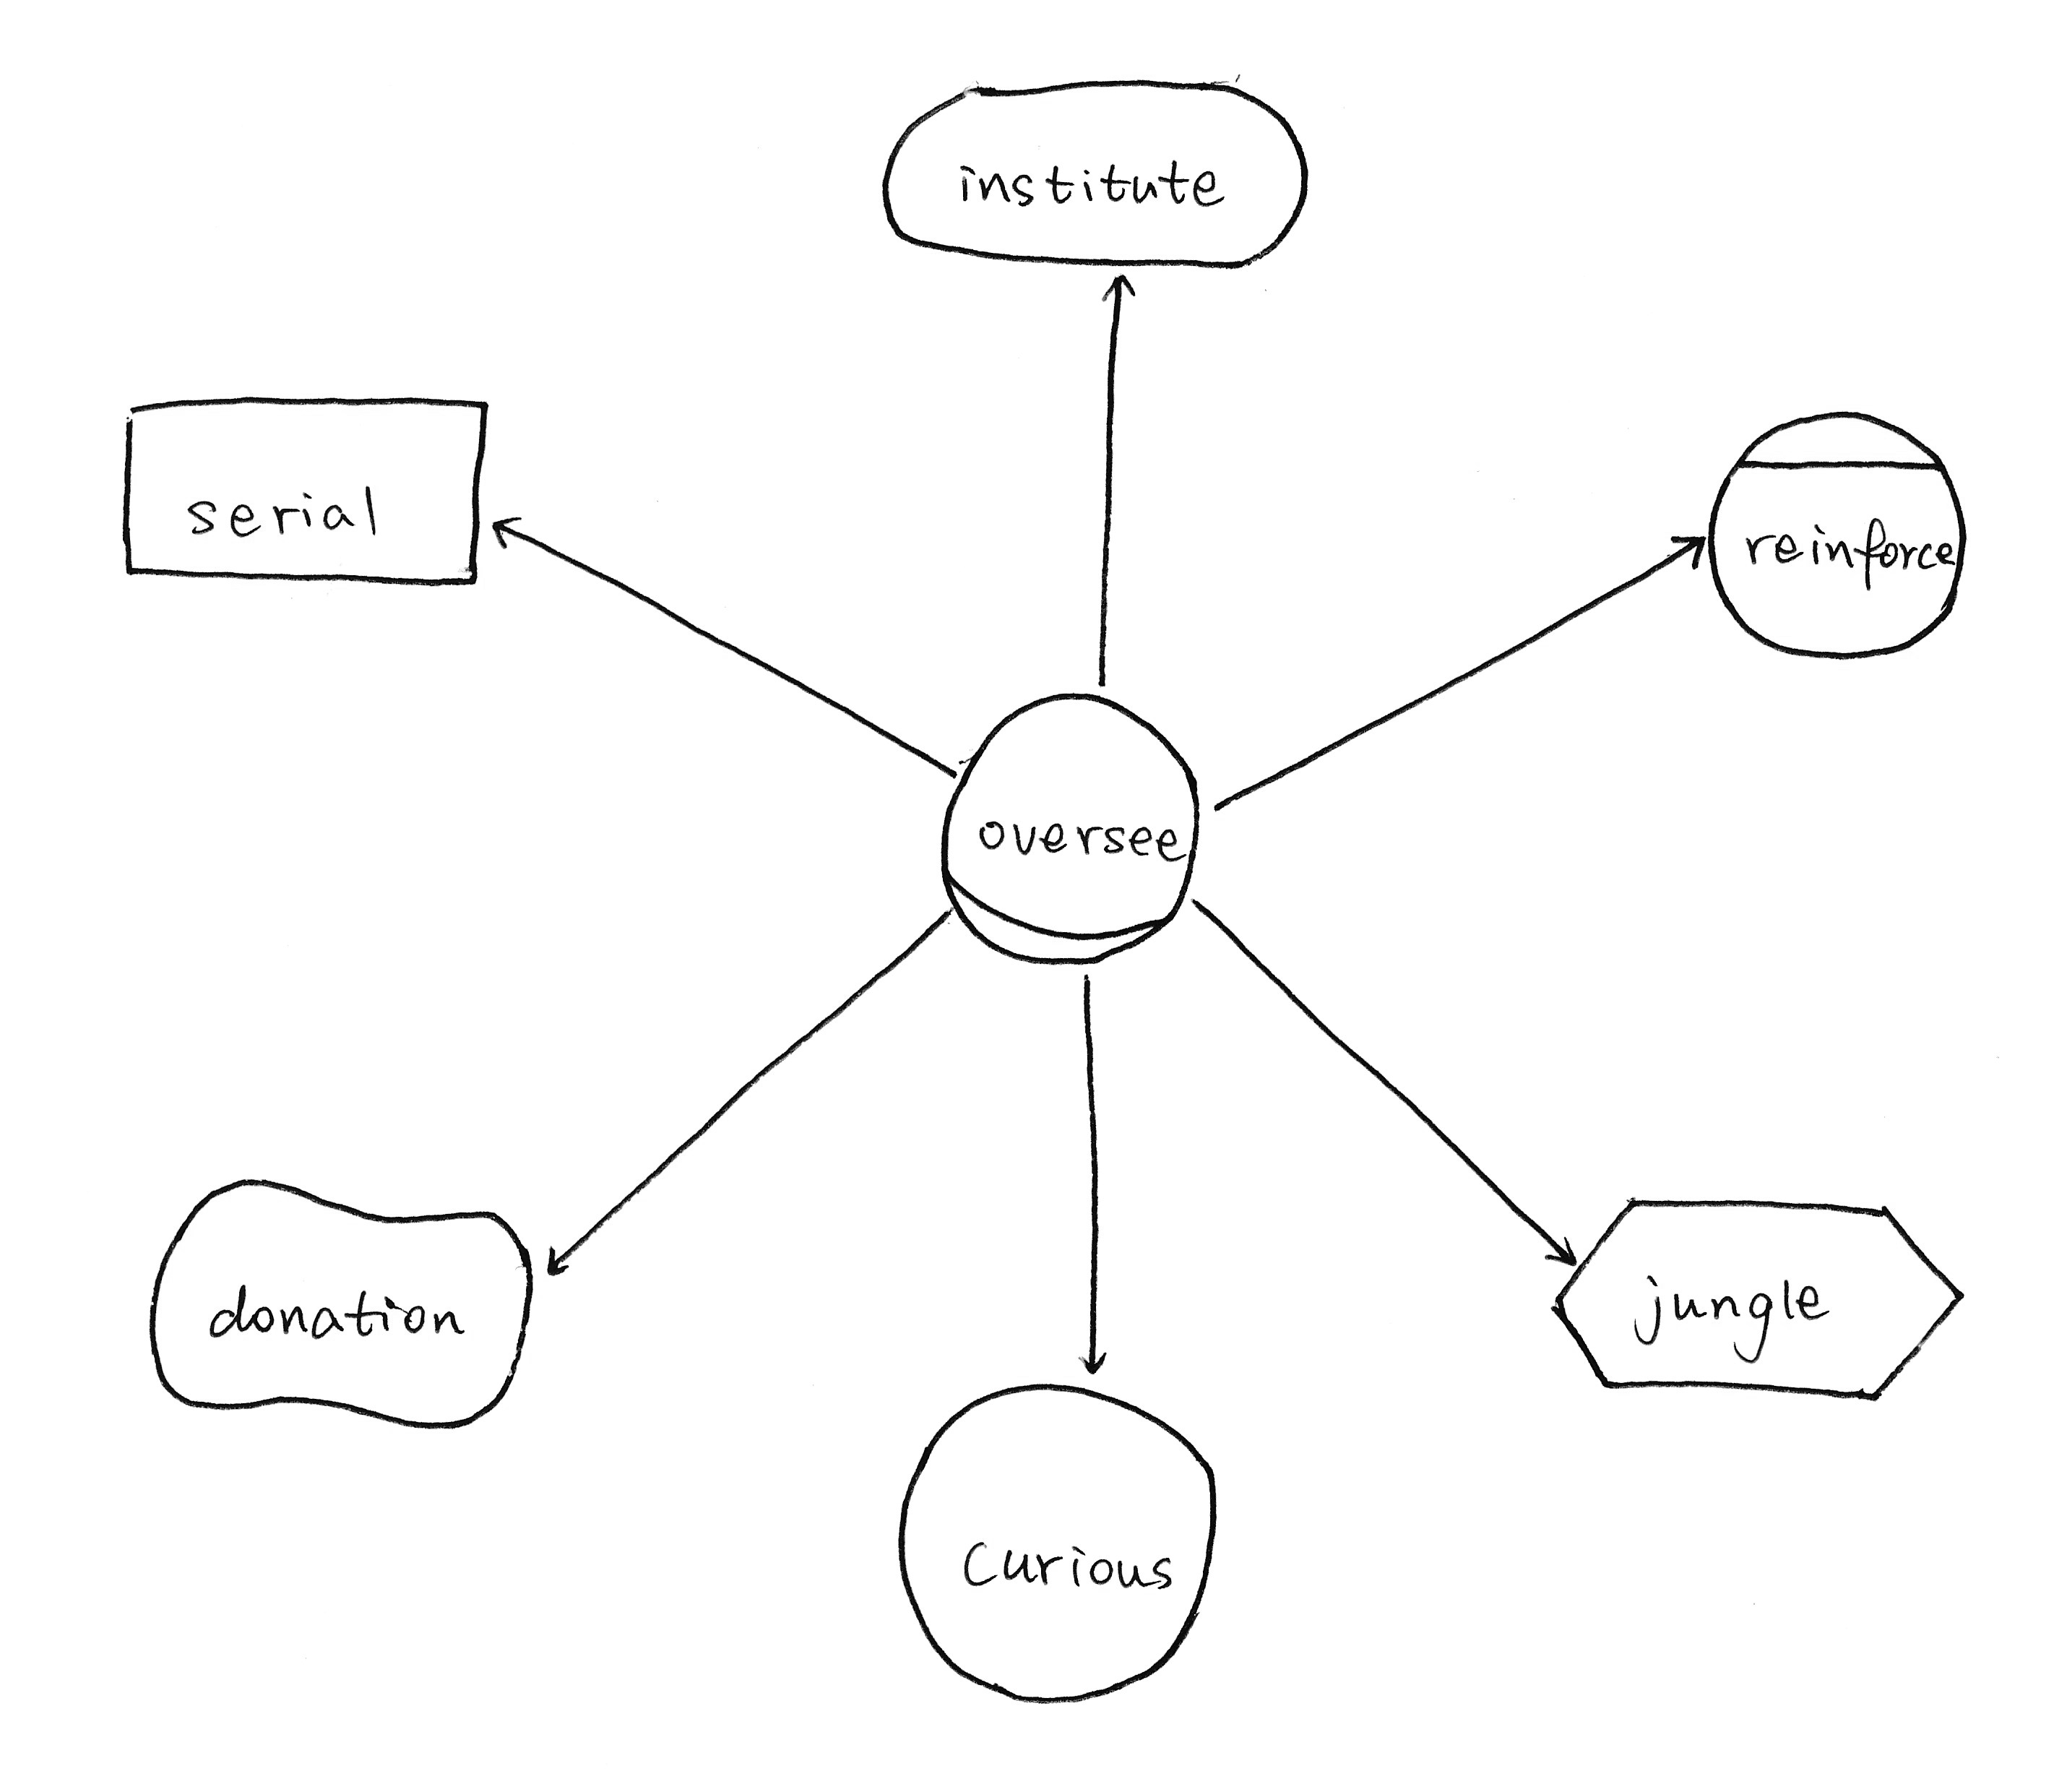actor: (875, 1366, 1235, 1719)
agent: (1685, 389, 1988, 674)
arrow: (466, 496, 548, 580), (1521, 1219, 1603, 1291), (1654, 515, 1719, 587), (524, 1221, 583, 1294), (1079, 264, 1151, 321), (1058, 1336, 1127, 1389)
goal: (866, 63, 1324, 286)
quality: (126, 1158, 555, 1443)
resource: (94, 372, 517, 610)
role: (924, 674, 1224, 985)
task: (1535, 1174, 1986, 1422)
